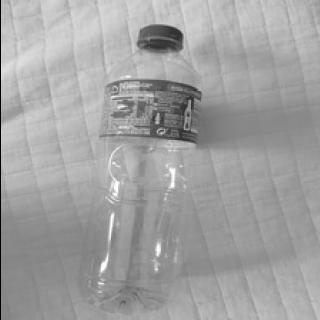plastic_bottles: (79, 21, 203, 320)
